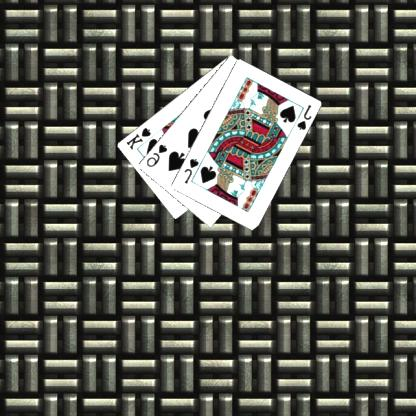9S: (145, 142, 171, 168)
JS: (183, 156, 202, 186), (296, 102, 314, 132)
KS: (125, 124, 154, 151)
